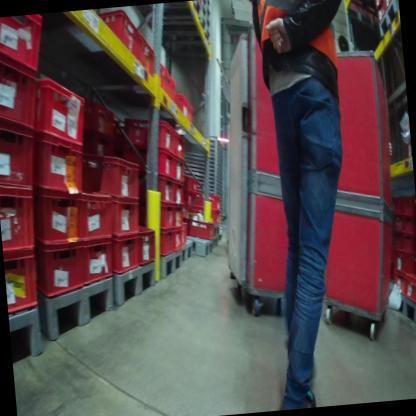pallet: (33, 272, 119, 351), (111, 260, 160, 311), (160, 12, 212, 49), (10, 304, 44, 360), (149, 1, 206, 25), (343, 2, 383, 36), (385, 288, 416, 329), (377, 0, 402, 44), (155, 249, 185, 281), (188, 233, 214, 259), (182, 240, 196, 263), (211, 238, 220, 256), (211, 222, 221, 237)
small_load_carrier: (72, 223, 166, 295), (35, 71, 93, 153), (30, 179, 91, 251), (0, 44, 43, 139), (35, 236, 95, 304), (34, 127, 85, 203), (0, 14, 51, 90), (0, 103, 43, 191), (85, 148, 143, 213), (91, 8, 143, 66), (119, 111, 173, 164), (4, 242, 43, 314), (0, 181, 36, 256), (101, 188, 145, 244), (75, 187, 116, 246), (124, 145, 173, 183), (82, 95, 120, 142), (141, 170, 185, 209), (81, 128, 122, 168), (139, 192, 177, 235), (133, 29, 161, 82), (154, 61, 179, 110), (112, 228, 138, 274), (185, 211, 219, 244), (181, 207, 222, 234), (168, 123, 188, 167), (173, 87, 195, 126), (392, 242, 416, 276), (156, 221, 179, 256), (390, 208, 416, 238), (186, 187, 221, 209), (388, 194, 416, 220), (171, 153, 191, 189), (391, 226, 416, 254), (401, 270, 416, 312), (168, 195, 187, 225), (390, 266, 407, 297), (175, 223, 189, 249), (376, 0, 387, 20), (383, 0, 395, 8), (374, 0, 385, 8)
